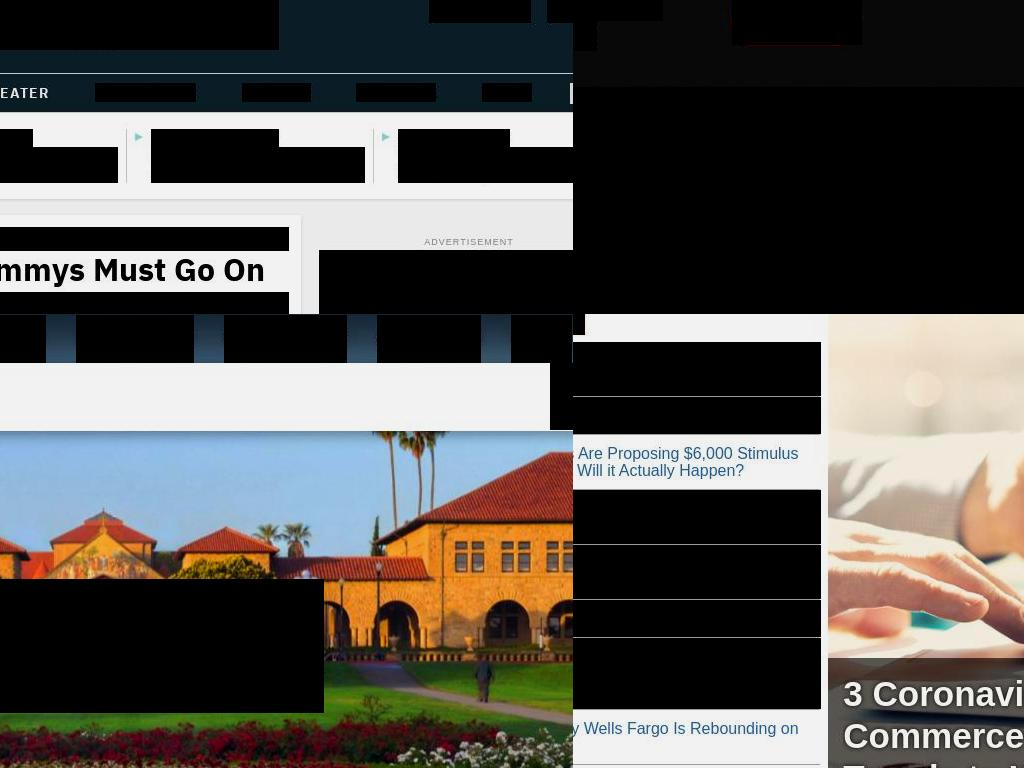button: (828, 314, 1024, 768), (573, 638, 821, 709), (0, 0, 279, 50), (573, 342, 821, 396), (573, 435, 821, 489), (573, 490, 821, 544), (573, 545, 821, 599), (573, 710, 821, 764), (573, 397, 821, 434), (573, 600, 821, 637), (224, 315, 347, 363), (732, 0, 862, 45), (76, 315, 194, 363), (377, 315, 481, 363), (511, 315, 572, 363), (429, 0, 531, 23), (0, 315, 46, 363), (550, 363, 573, 430), (547, 0, 573, 23)
heading: (639, 187, 994, 237), (843, 673, 1024, 768), (0, 0, 279, 50), (573, 251, 1024, 281), (0, 251, 289, 288), (151, 129, 279, 147), (398, 129, 510, 147), (0, 129, 33, 147)
iframe: (319, 250, 573, 314)
image: (573, 87, 1024, 314), (828, 314, 1024, 768), (774, 303, 858, 307)
text: (0, 579, 324, 713), (151, 147, 365, 183), (0, 227, 289, 251), (398, 147, 573, 183), (0, 147, 118, 183), (95, 83, 196, 102), (356, 83, 436, 102), (438, 0, 522, 16), (242, 83, 311, 102), (0, 83, 50, 102), (482, 83, 532, 102), (556, 0, 573, 16)
